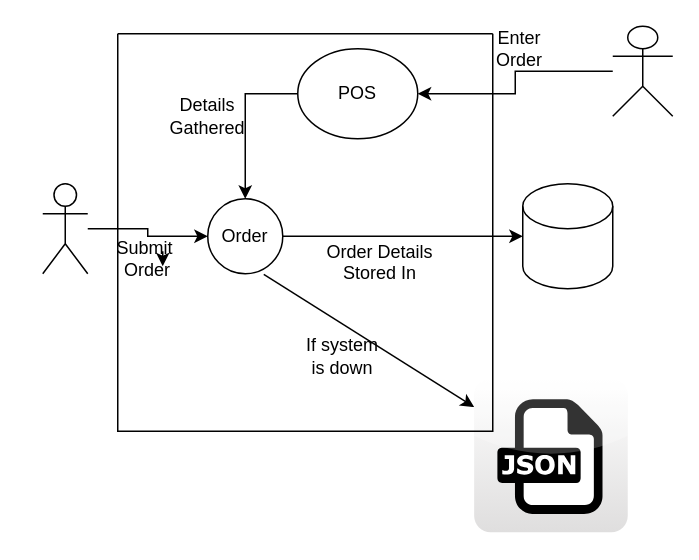
Some shapes in this 699 by 560 pixel diagram are drawn without their labels. Each missing label, with the centre of its shape:
"Clerk" belongs at [642,70].
"Customer" belongs at [64,228].
